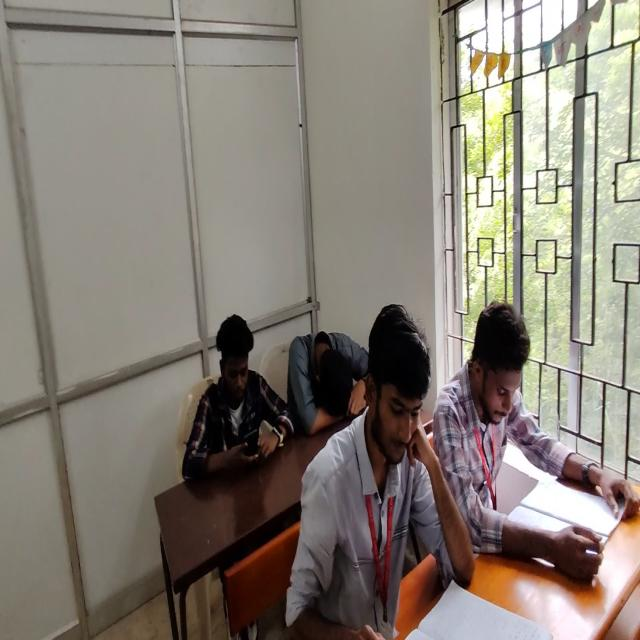reading: (431, 299, 640, 582), (289, 309, 457, 640)
sleeping: (288, 328, 370, 438)
using_mobile: (180, 310, 296, 480)
